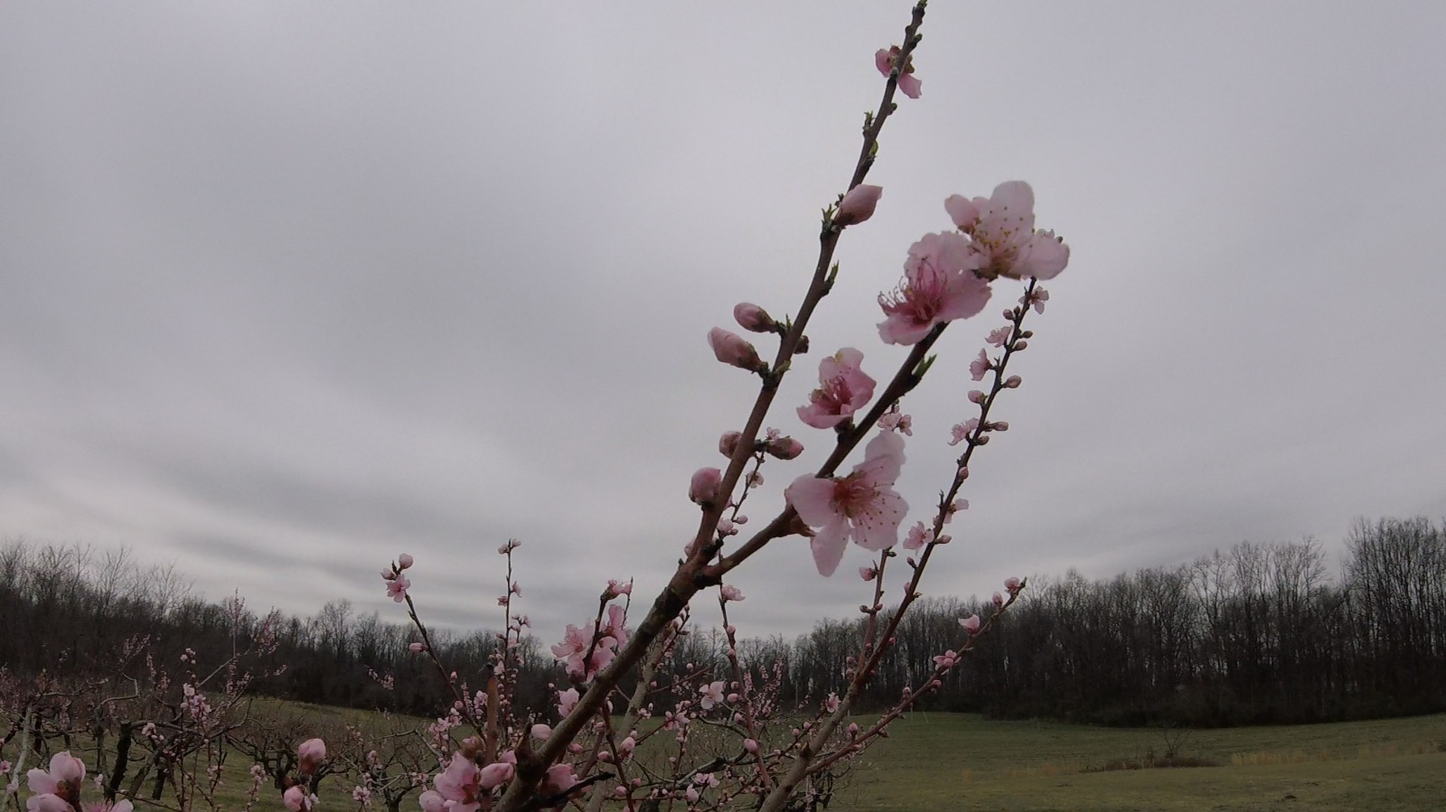flower: (878, 181, 1070, 346), (784, 405, 913, 577), (551, 577, 634, 685), (797, 349, 877, 429), (419, 749, 518, 812), (26, 751, 86, 812), (428, 691, 489, 741), (835, 183, 883, 225), (708, 327, 757, 368), (80, 783, 134, 812), (547, 757, 586, 791), (985, 308, 1016, 349), (690, 469, 724, 506), (903, 522, 935, 556), (961, 349, 991, 381), (948, 418, 981, 446), (284, 787, 320, 812), (734, 303, 764, 332), (662, 784, 703, 805), (297, 739, 329, 764), (387, 571, 411, 603), (876, 46, 899, 78), (700, 682, 725, 711), (666, 711, 690, 740), (716, 507, 739, 536), (897, 74, 923, 99), (559, 688, 580, 718), (933, 650, 962, 671), (511, 534, 535, 557), (974, 593, 1004, 611), (1031, 286, 1049, 315), (719, 585, 746, 602), (692, 773, 720, 789), (367, 566, 398, 580), (531, 724, 552, 744), (620, 737, 637, 759), (959, 615, 981, 630), (826, 692, 841, 713), (968, 391, 987, 406), (399, 554, 414, 569), (0, 759, 13, 776), (510, 582, 522, 598), (1005, 577, 1022, 588), (494, 661, 505, 676), (744, 739, 759, 750), (498, 544, 510, 555), (409, 643, 423, 652), (653, 793, 661, 799), (713, 536, 719, 541)
